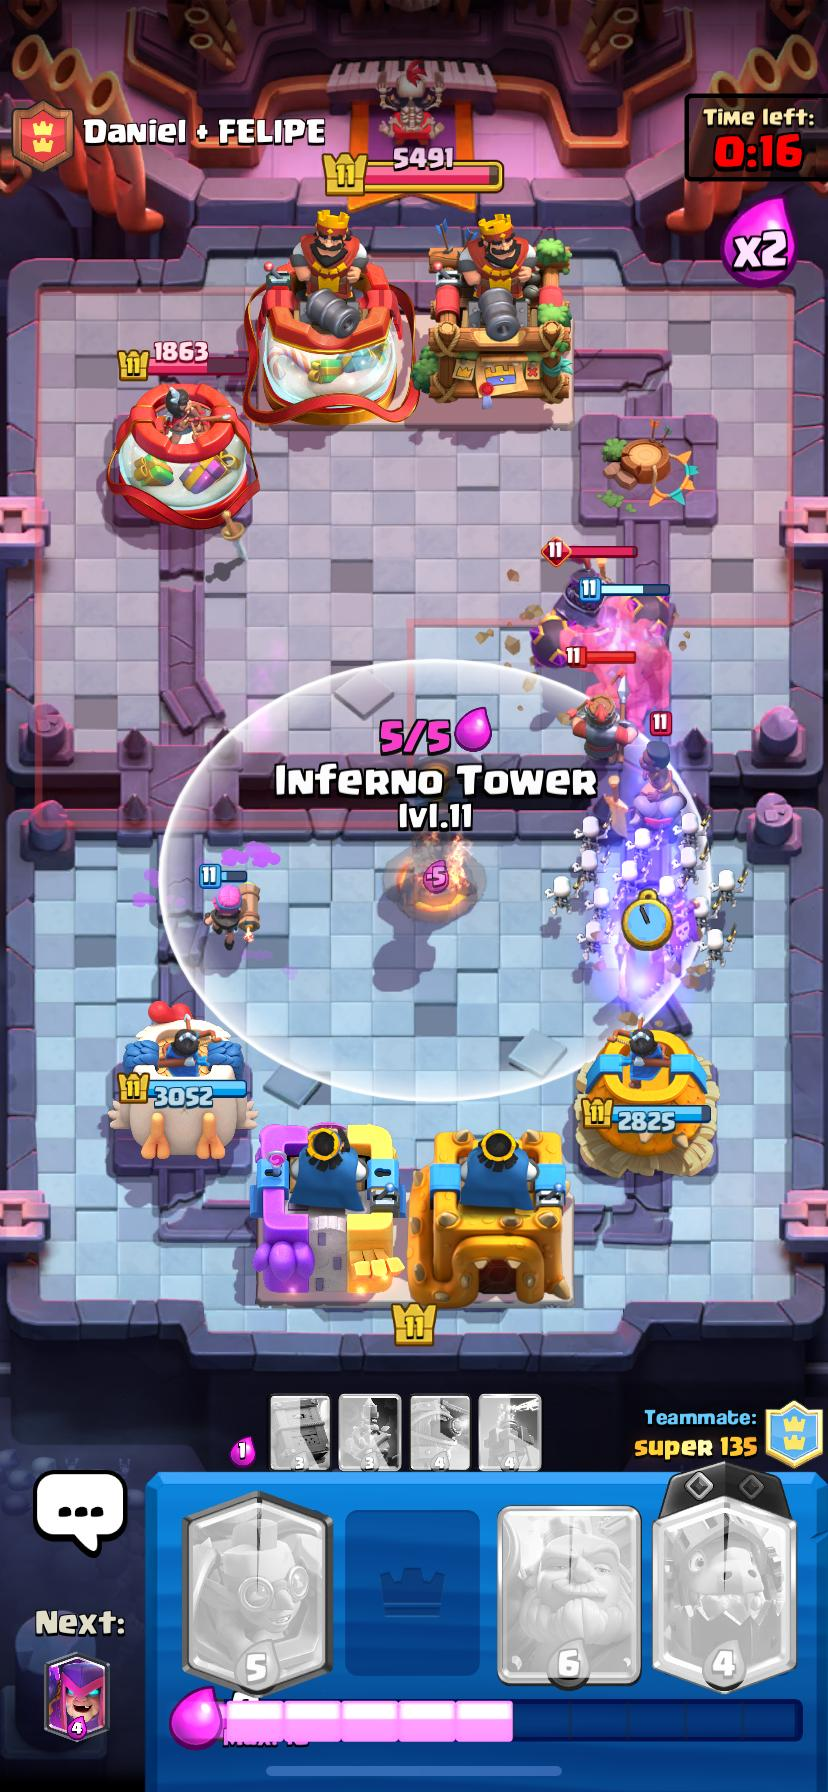EEVMegaKnight: (530, 545, 614, 669)
EKingTower: (242, 207, 417, 427), (412, 213, 571, 405)
ERamRider: (629, 741, 687, 827)
ERoyalR: (567, 696, 637, 763)
EnemyPrincessTower: (108, 383, 257, 539)
OFirecrack: (205, 875, 258, 950)
OGolem: (560, 597, 671, 725)
OLarry: (578, 918, 610, 969), (711, 869, 746, 917), (544, 875, 578, 915), (573, 814, 605, 853), (672, 845, 703, 885), (627, 827, 656, 869), (572, 847, 598, 890), (704, 928, 730, 971), (615, 859, 639, 899), (675, 811, 704, 843), (587, 888, 610, 920), (658, 875, 676, 904)
OwnKingTower: (253, 1123, 403, 1304), (430, 1129, 571, 1305)
OwnPrincessTower: (576, 1029, 718, 1178), (111, 1013, 255, 1159)
TowerDown: (579, 414, 717, 525)
